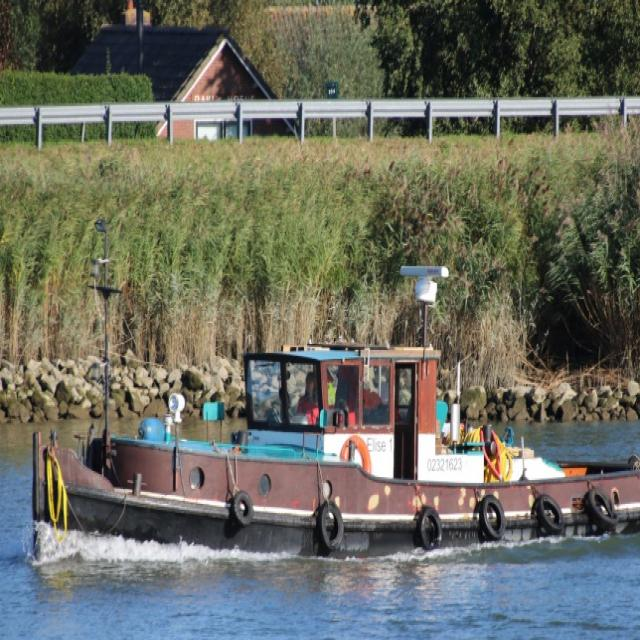tugboat: (22, 218, 640, 578)
